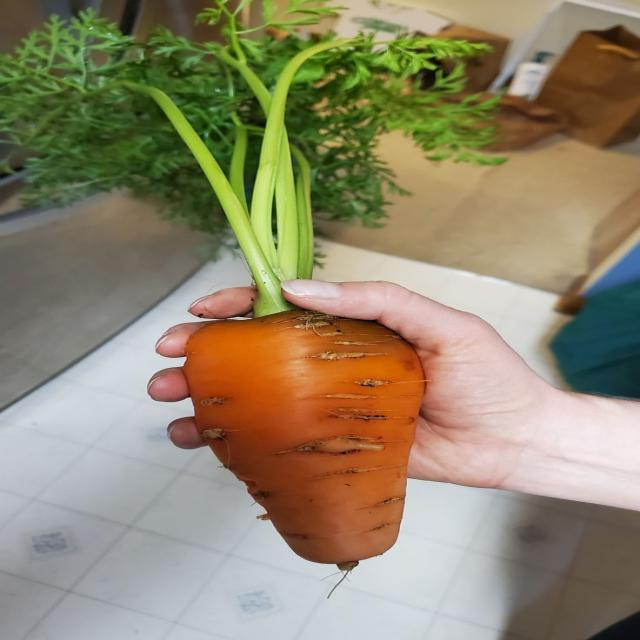carrot: (185, 311, 424, 569)
